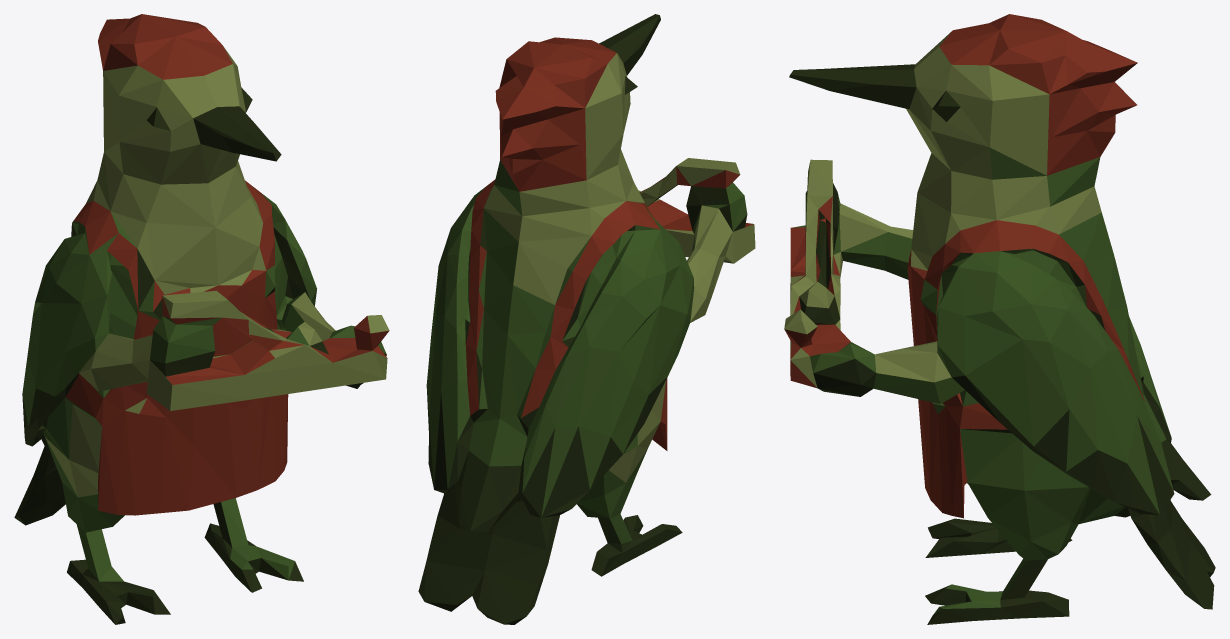
3 renders of one model, left to right at view 1: azimuth 30°, elevation 25°; view 2: azimuth 150°, elevation 25°; view 3: azimuth 270°, elevation 25°, orthographic. The views are drawn at different scales.
Parts seen in each view (by area): view 1: lion-1500; view 2: lion-1500; view 3: lion-1500.
Boxes of the visible parts, x1,y1,x2,y2 form: lion-1500: [14, 14, 389, 624]; lion-1500: [418, 14, 755, 624]; lion-1500: [784, 14, 1215, 624].
Bounding box in the file's own units: 0.4644 × 1 × 0.6997.
